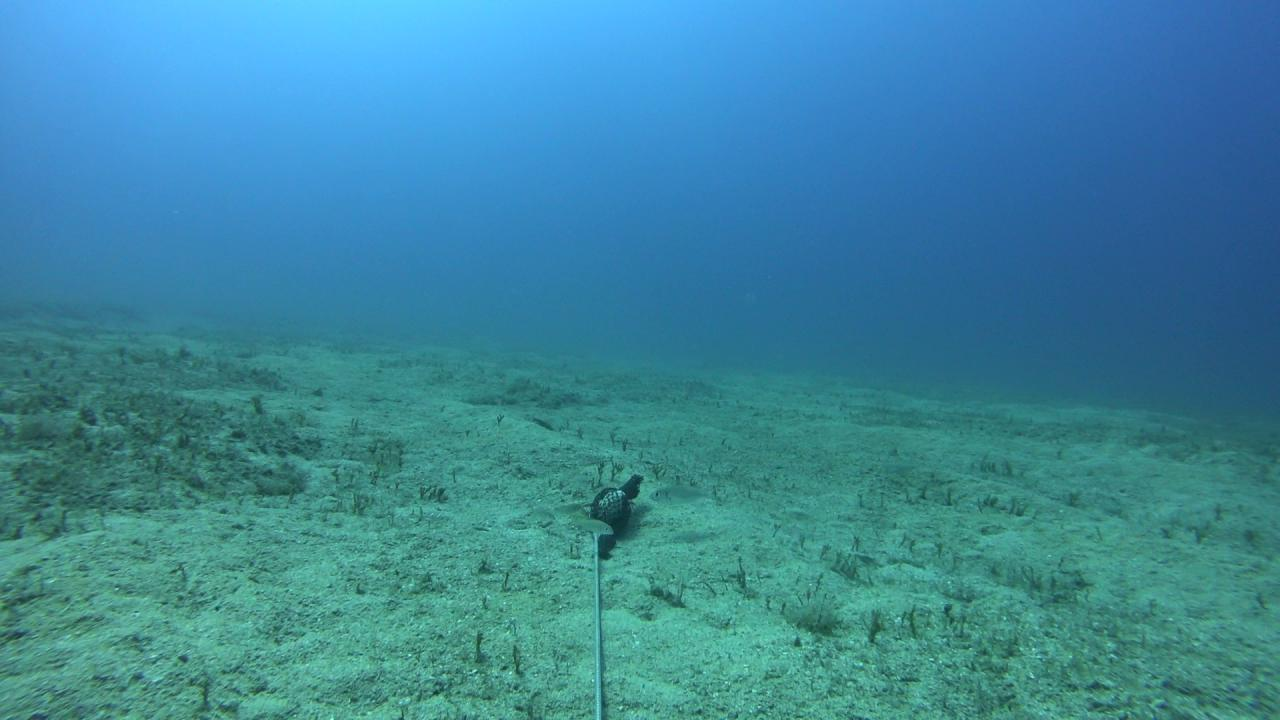pagellus: (648, 482, 721, 507), (566, 516, 615, 535)
